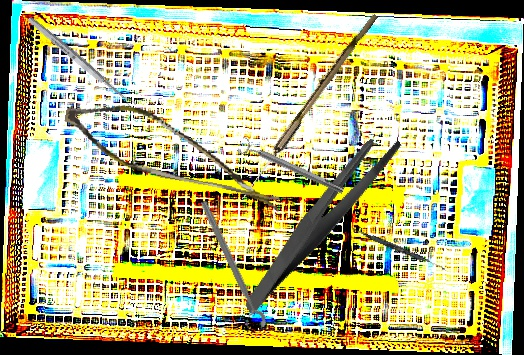Dressing Forceps: (208, 126, 432, 315)
Fixation Ring: (190, 198, 269, 334), (236, 135, 347, 200)
Micro Scissor: (55, 93, 295, 213)
Spatula Surgical: (351, 227, 447, 271)
Surgical Spoon: (238, 10, 379, 203), (26, 15, 137, 110)
